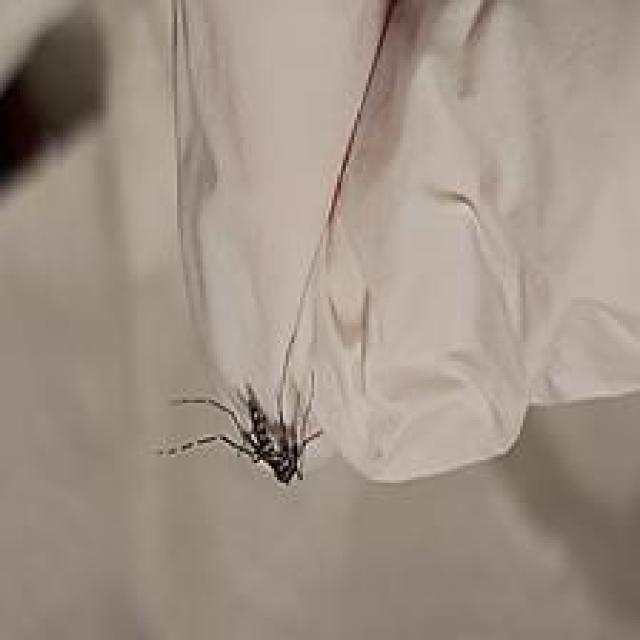Aedes albopictus: (154, 367, 326, 487)
